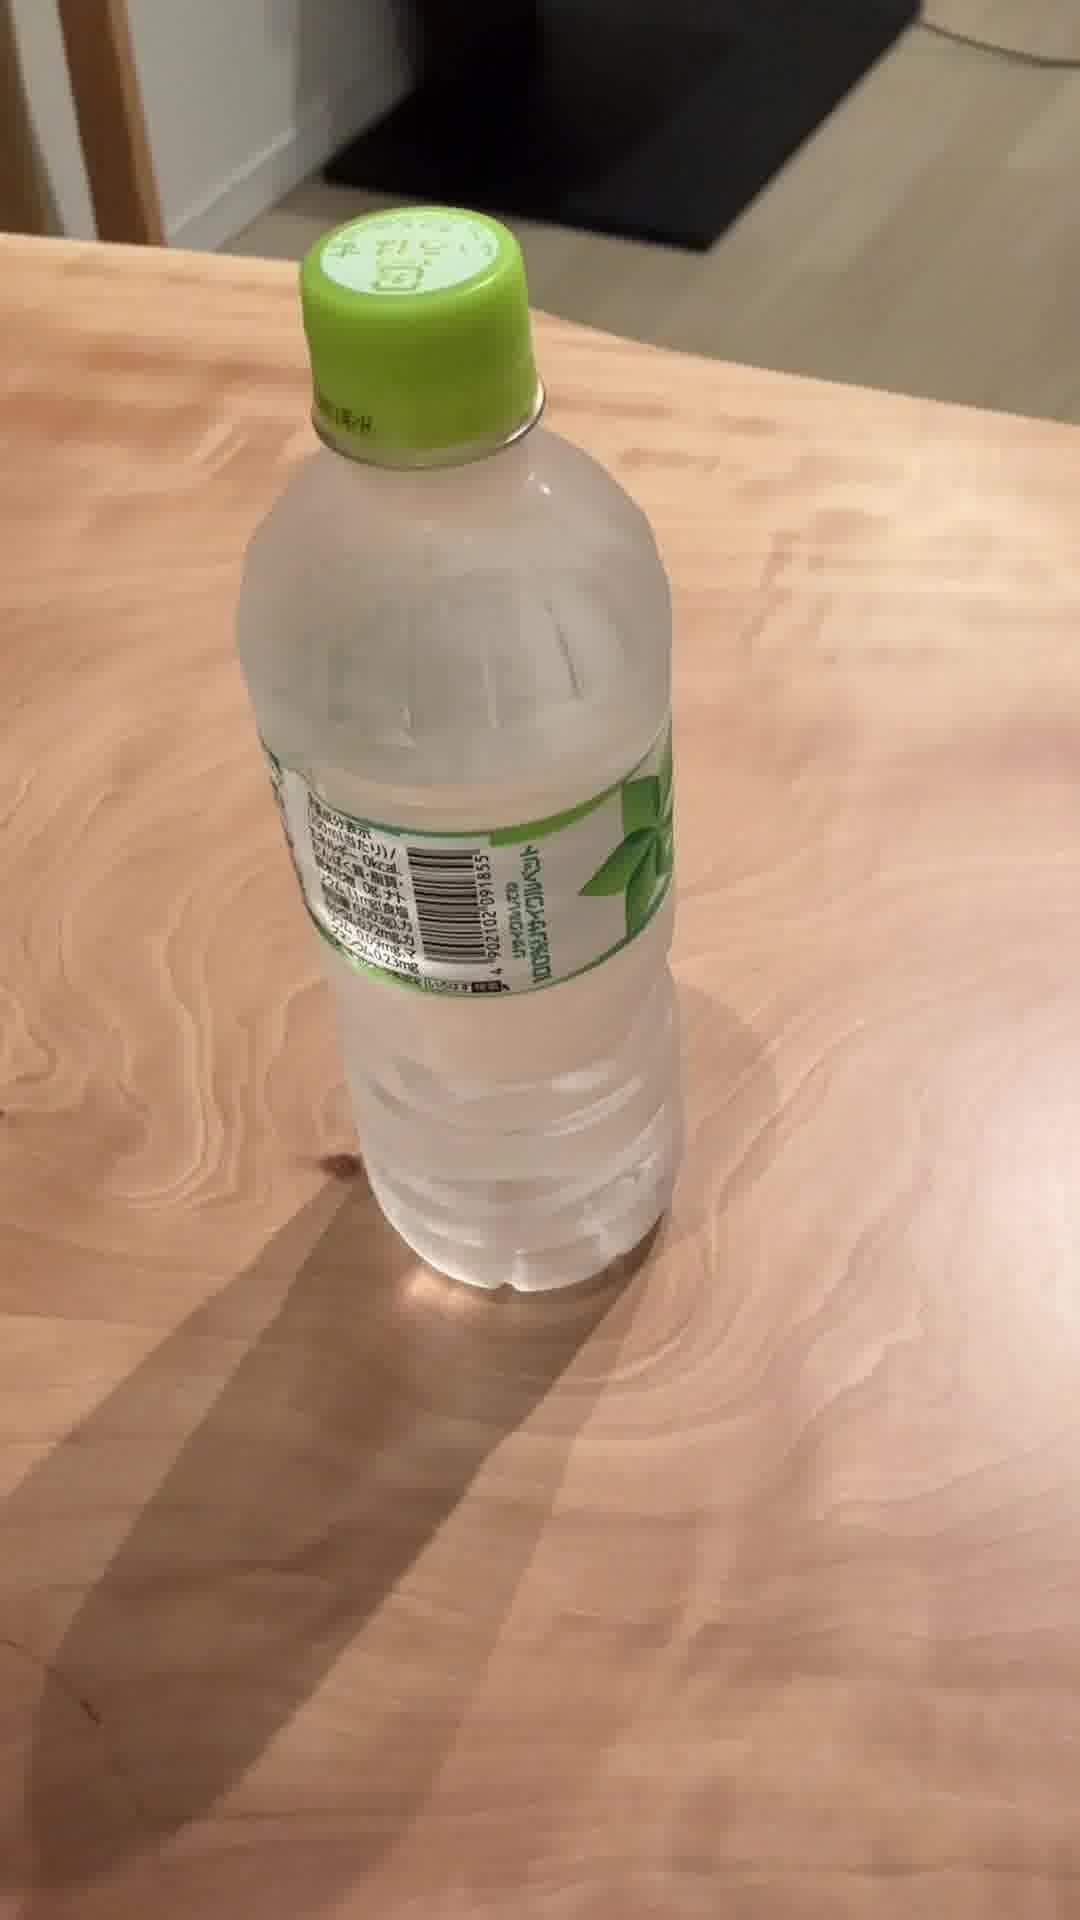BIODEGRADABLE: (228, 196, 688, 1308)
